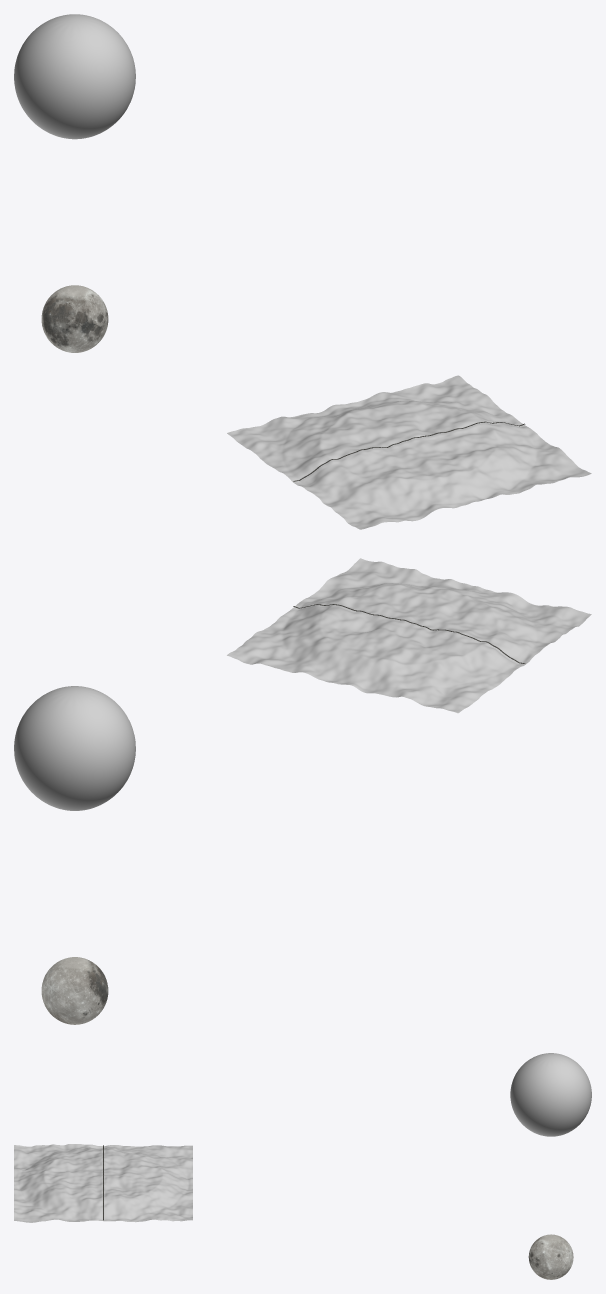
The model's file is windowsxpmap.gltf.
The picture shows the model from 3 angles, top to bottom: view 1: azimuth 30°, elevation 25°; view 2: azimuth 150°, elevation 25°; view 3: azimuth 270°, elevation 25°; orthographic projection. The views are drawn at different scales.
Parts seen in each view (by area): view 1: Terrain_RigidBody, Sun, Moon; view 2: Terrain_RigidBody, Sun, Moon; view 3: Terrain_RigidBody, Sun, Moon.
Boxes of the visible parts, left/top/right/bottom form: Terrain_RigidBody: left=227, top=375, right=591, bottom=529; Sun: left=14, top=14, right=135, bottom=139; Moon: left=41, top=285, right=108, bottom=352; Terrain_RigidBody: left=227, top=558, right=591, bottom=713; Sun: left=14, top=686, right=135, bottom=810; Moon: left=41, top=957, right=108, bottom=1024; Terrain_RigidBody: left=14, top=1144, right=192, bottom=1222; Sun: left=510, top=1053, right=591, bottom=1136; Moon: left=528, top=1234, right=573, bottom=1279.
Bounding box in the file's own units: 1000 × 1364 × 3228.
